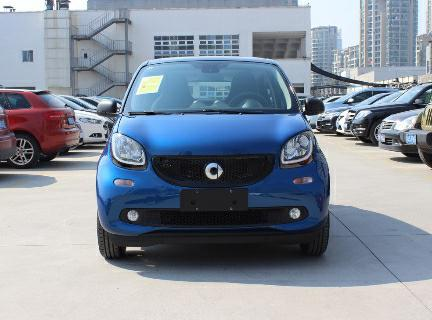smart-forfour: (89, 57, 333, 268)
